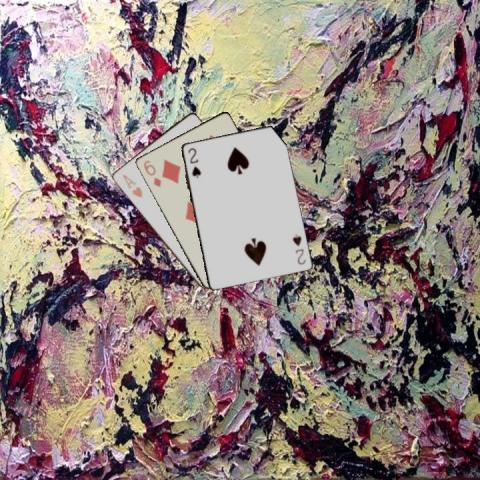2s: (289, 231, 307, 266), (185, 145, 201, 179)
6d: (140, 157, 162, 189)
Ah: (119, 172, 144, 200)
